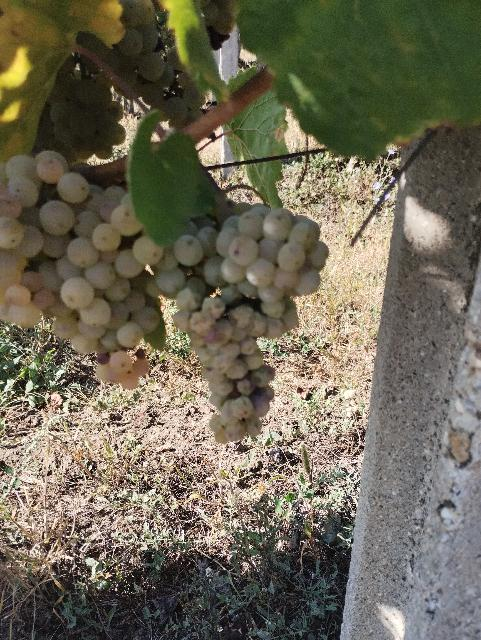grapes: (0, 150, 178, 390), (155, 202, 330, 442)
